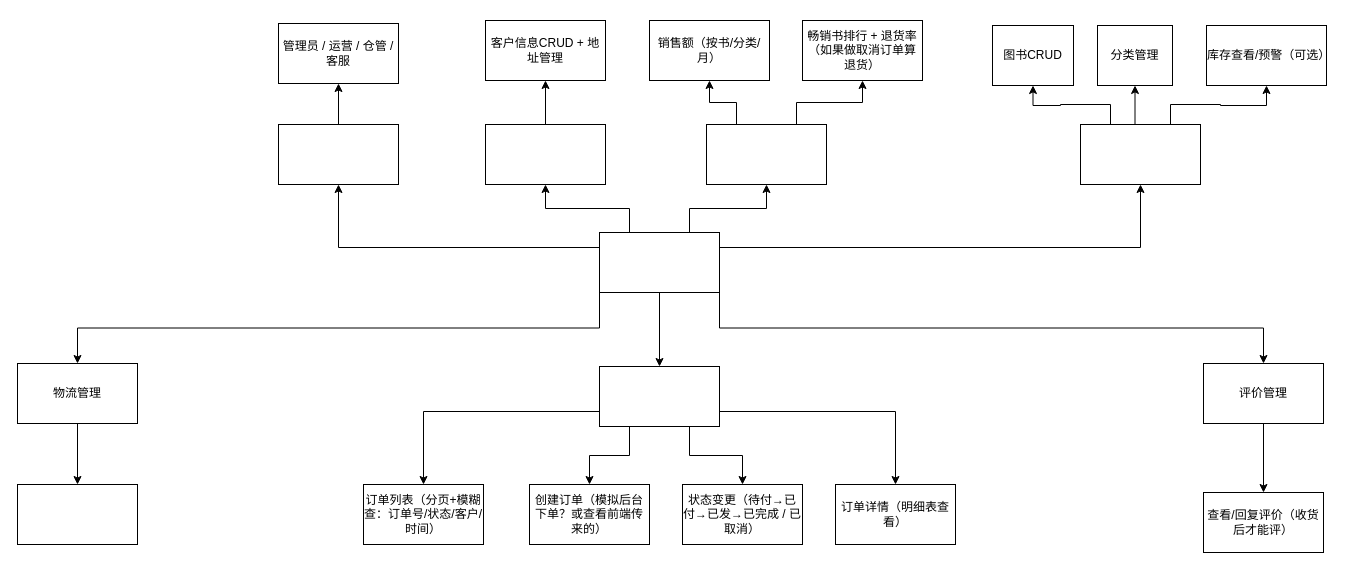
Some shapes in this 1347 by 570 pixel diagram are drawn without their labels. The shapes that lost their labels are listed below. From the top down, each one's centre as x and y in pixels, then its label:
At pixel 338 154: "登录/权限管理".
At pixel 545 154: "客户管理".
At pixel 766 154: "统计报表".
At pixel 1140 154: "图书管理".
At pixel 659 262: "网上书店订单管理系统（后台".
At pixel 659 396: "订单管理（核心）".
At pixel 77 514: "发货 + 物流单号 + 状态更新（揽件/运输/签收）".
